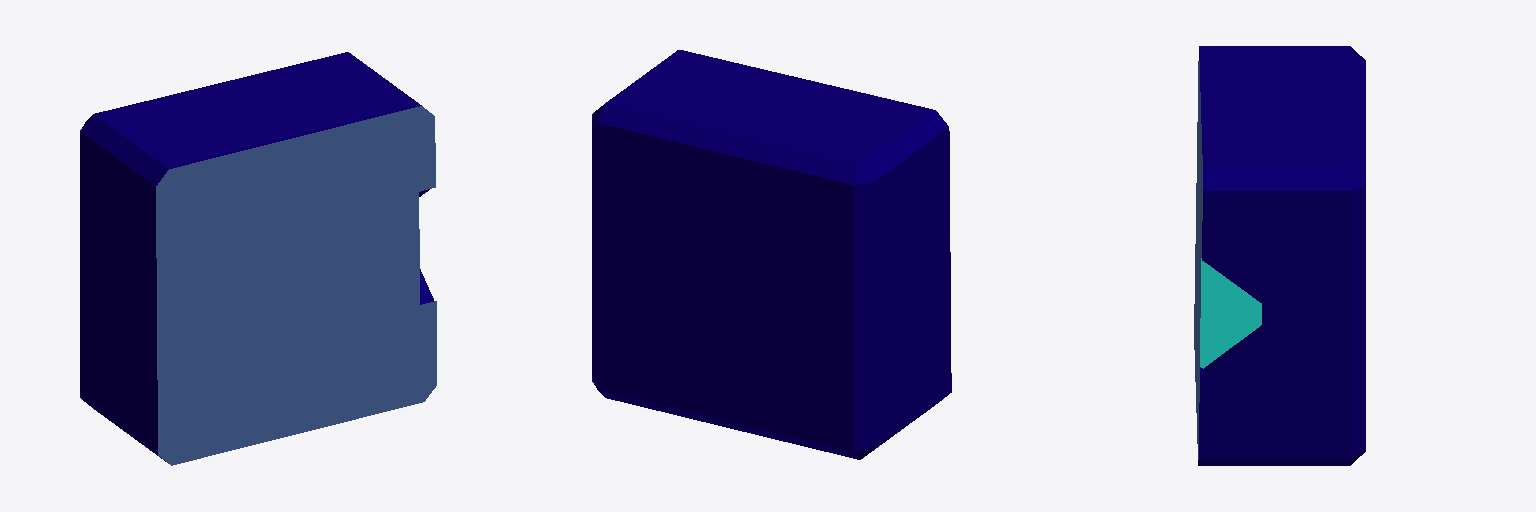
The model's file is BoxAnyHalf.obj.
3 views of the same model, side by side, from view 1: azimuth 30°, elevation 25°; view 2: azimuth 150°, elevation 25°; view 3: azimuth 270°, elevation 25° (orthographic).
Visible parts, largest first — view 1: Cube.001; view 2: Cube.001; view 3: Cube.001.
Boxes of the visible parts, box(x1,y1,x2,y2) form: Cube.001: box(80, 52, 436, 465); Cube.001: box(592, 50, 951, 459); Cube.001: box(1194, 46, 1365, 465).
Bounding box in the file's own units: 2 × 2 × 1.06.